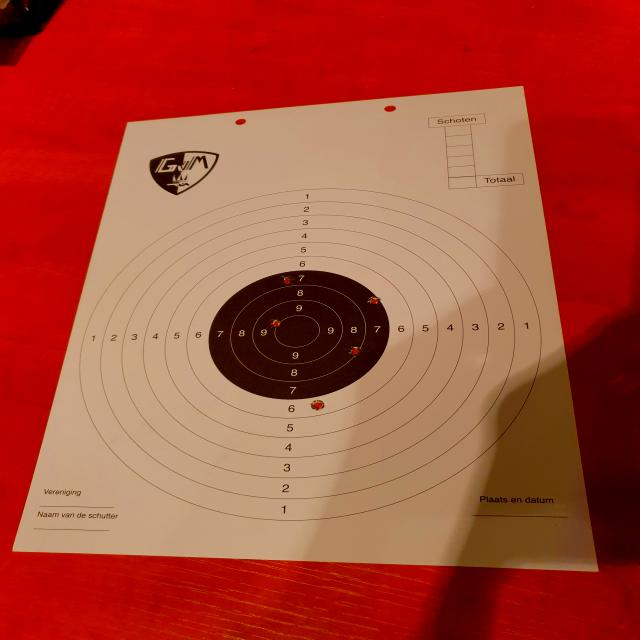10: (267, 318, 281, 330)
6: (309, 399, 326, 411)
7: (277, 275, 295, 286), (367, 296, 382, 306)
8: (348, 346, 364, 358)
Target: (79, 185, 544, 523)
black_contour: (209, 269, 390, 399)
